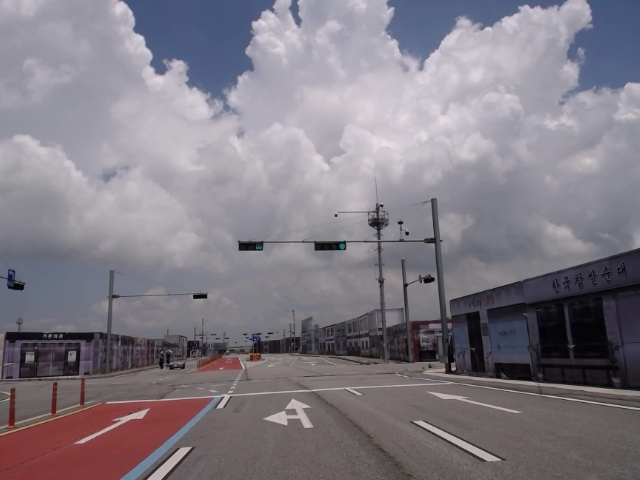straight_green_4: (312, 241, 347, 251)
